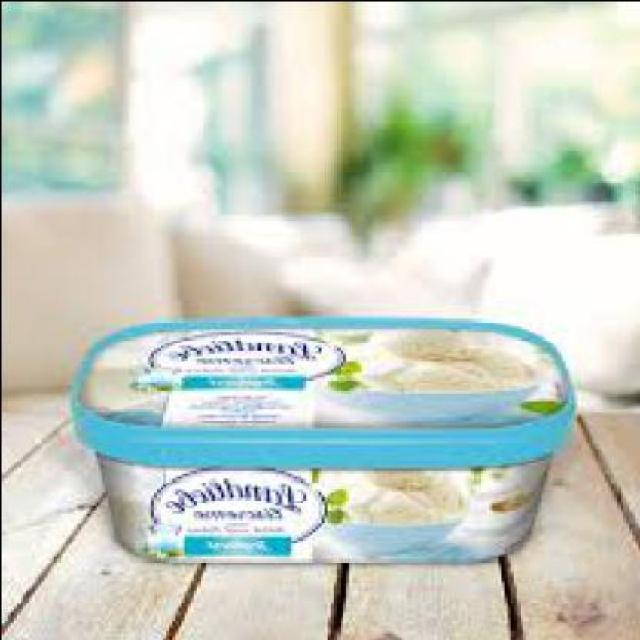PLASTIC: (76, 312, 576, 560), (73, 314, 576, 461)
